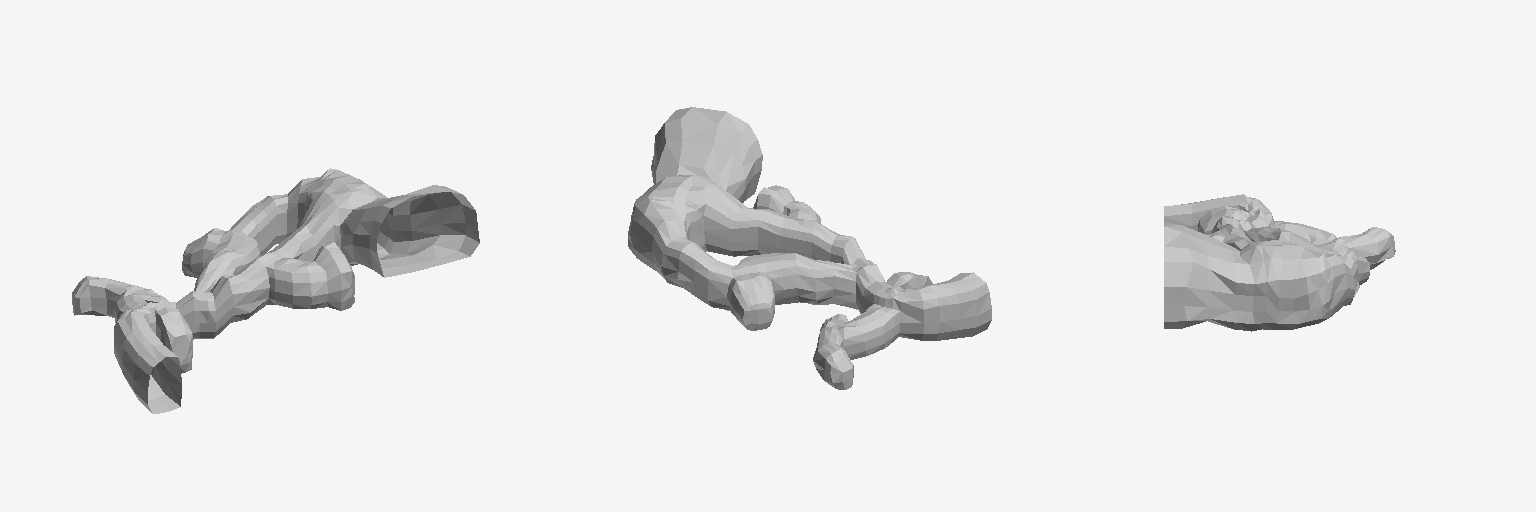
File: tunnel-of-trials.obj
3 views of the same model, side by side, from view 1: azimuth 30°, elevation 25°; view 2: azimuth 150°, elevation 25°; view 3: azimuth 270°, elevation 25° (orthographic).
Bounding box in the file's own units: 31.04 × 13.89 × 18.7.